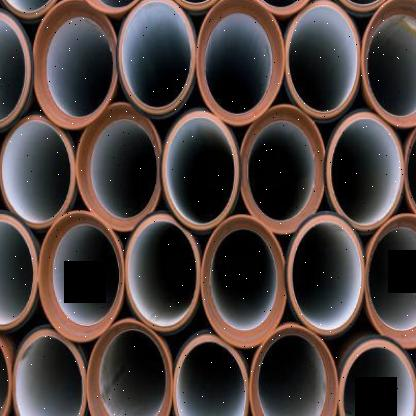pipe: (200, 214, 285, 347), (38, 211, 124, 342), (240, 104, 326, 234), (76, 102, 160, 232), (196, 0, 284, 124), (34, 0, 116, 128), (158, 108, 240, 231), (285, 211, 365, 337), (326, 112, 404, 231), (117, 0, 197, 116), (125, 212, 200, 333), (285, 0, 360, 119), (0, 113, 76, 228), (86, 317, 172, 416), (248, 326, 338, 416), (363, 212, 416, 347), (361, 0, 416, 128), (12, 326, 86, 416), (173, 329, 249, 416), (337, 337, 416, 416), (0, 211, 38, 331), (0, 8, 33, 134)
